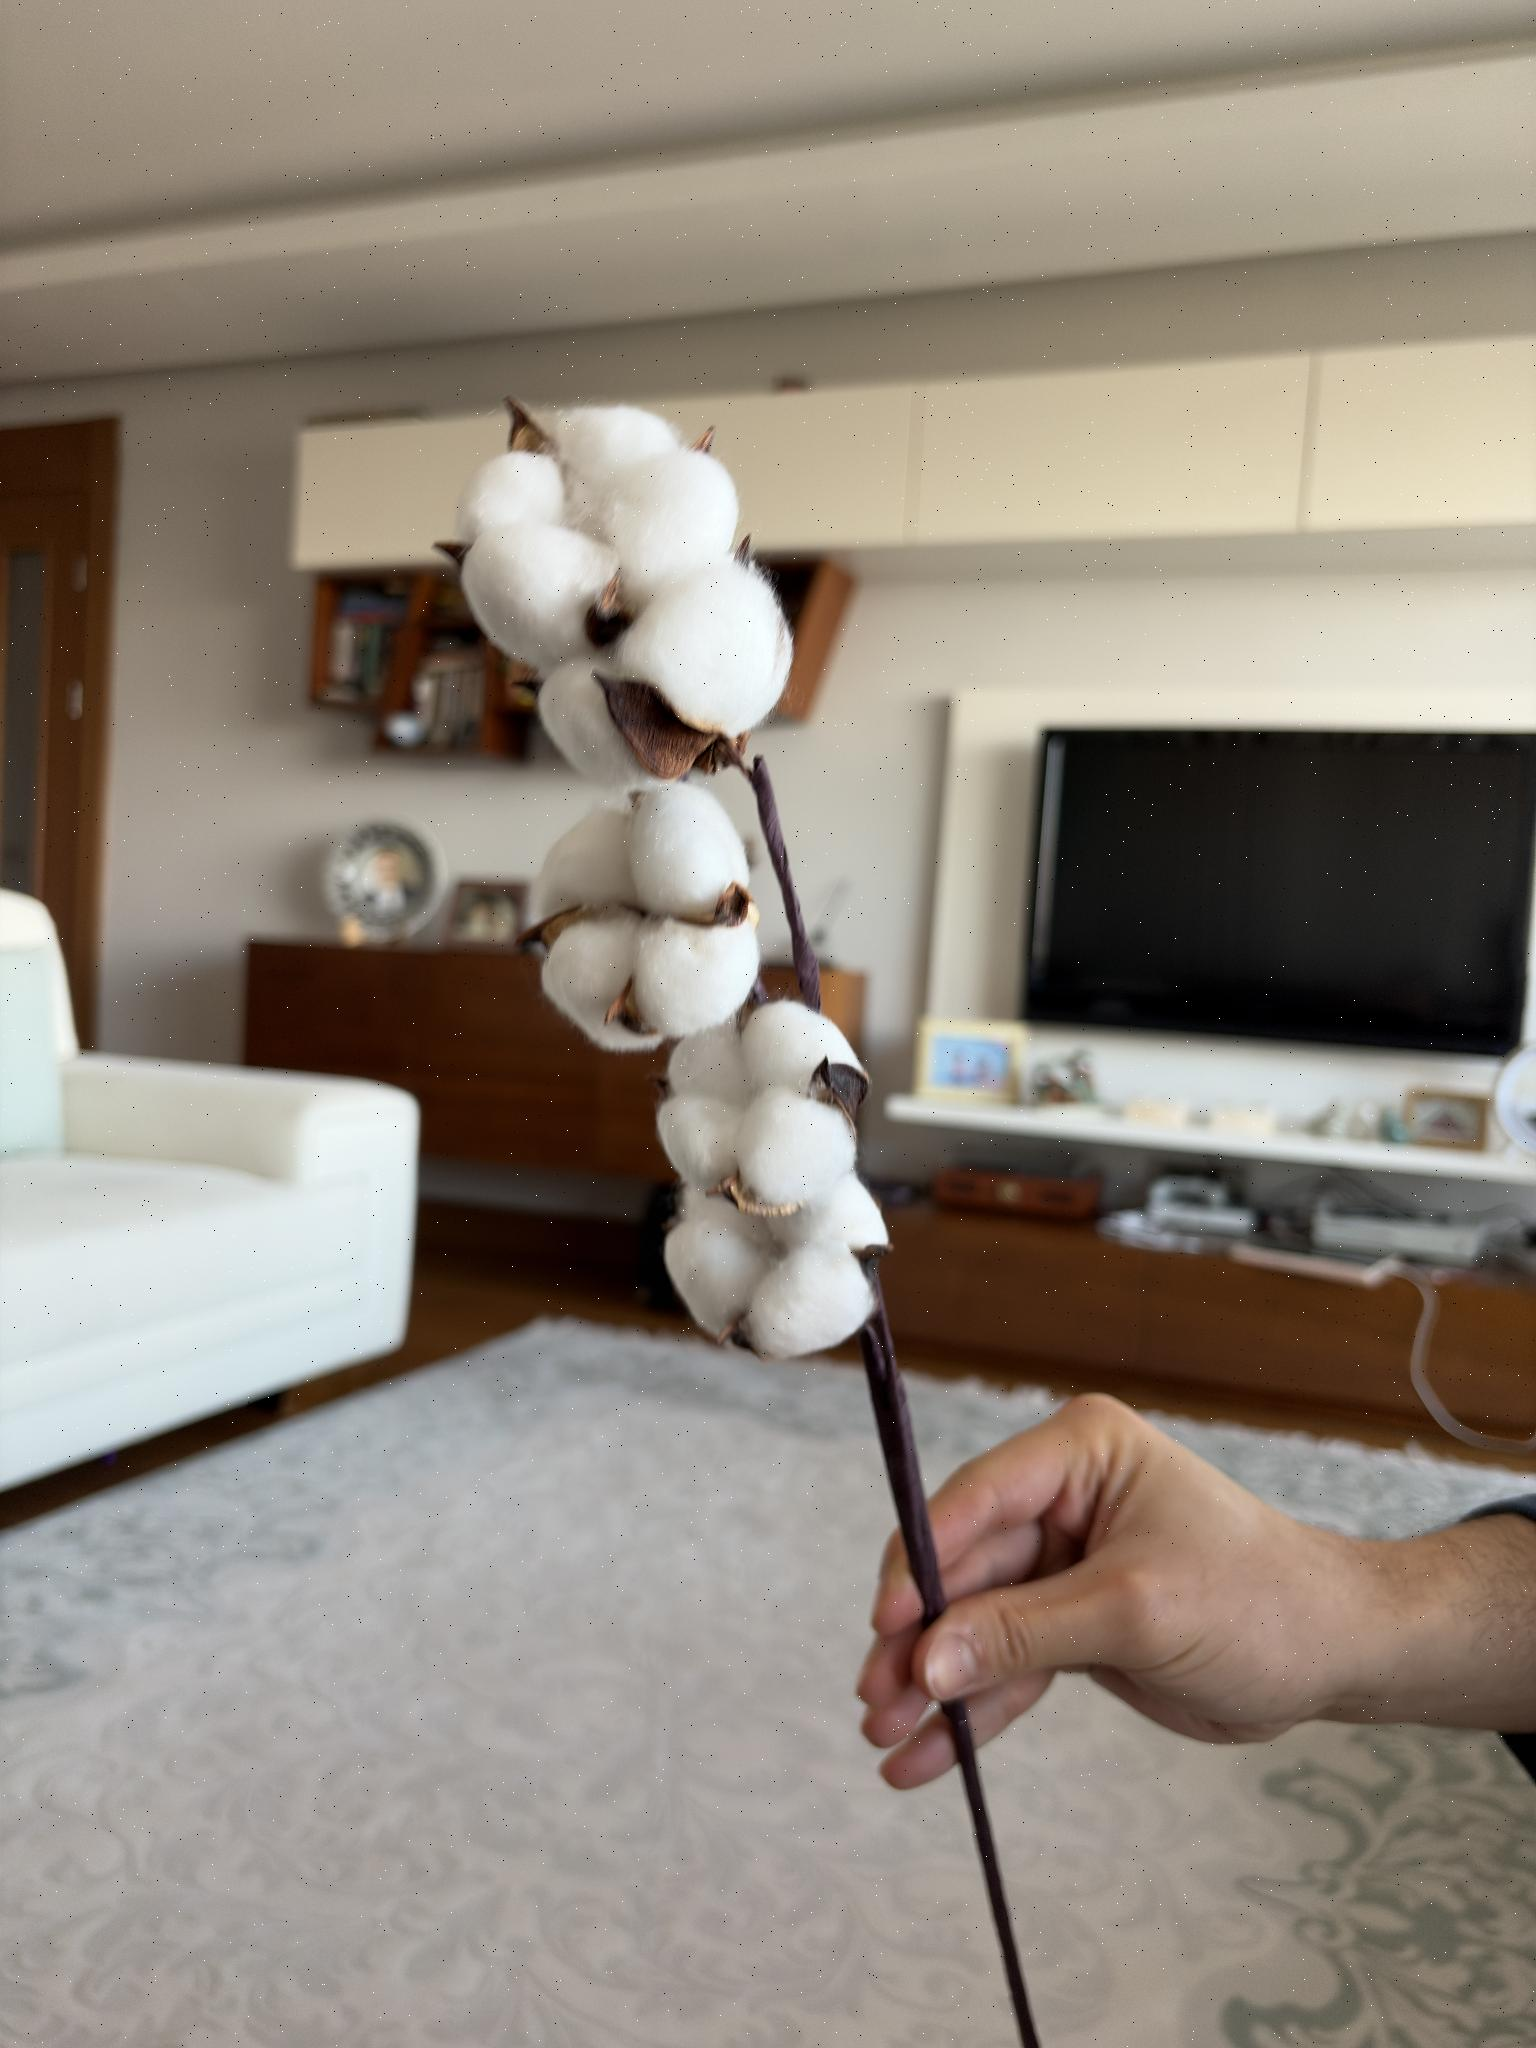cotton_boll: (605, 560, 792, 734), (463, 521, 618, 674), (605, 450, 739, 597), (626, 782, 749, 921), (542, 911, 662, 1051), (541, 406, 679, 524), (539, 658, 658, 790), (632, 918, 758, 1037), (736, 1087, 855, 1213), (747, 1238, 873, 1358), (526, 808, 639, 927), (665, 1222, 770, 1340), (742, 1001, 868, 1092), (457, 452, 563, 543), (770, 1172, 889, 1251), (658, 1090, 744, 1192), (666, 1019, 749, 1106), (674, 1185, 776, 1255)
cotton_boll-cluster: (452, 398, 800, 797), (518, 780, 765, 1056), (657, 1156, 894, 1369), (655, 995, 866, 1222)
